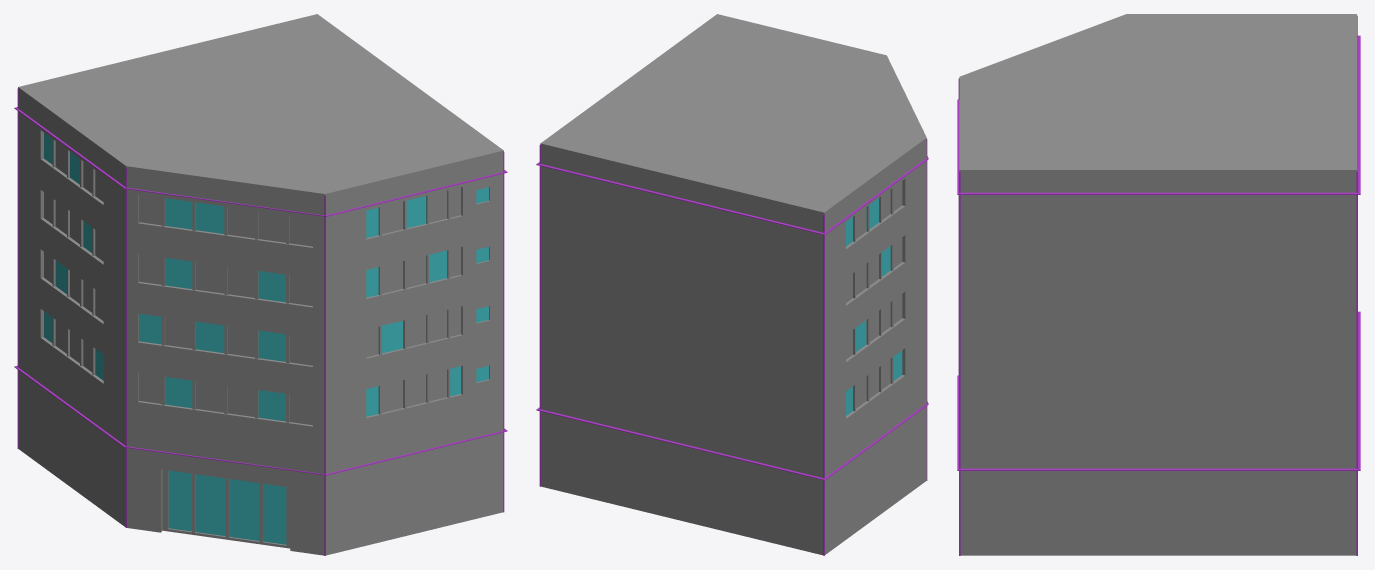
File: BuildingS_03_var3.fbx
3 renders of one model, left to right at view 1: azimuth 30°, elevation 25°; view 2: azimuth 150°, elevation 25°; view 3: azimuth 270°, elevation 25°, orthographic. The views are drawn at different scales.
Parts seen in each view (by area): view 1: BuildingS_03_var3; view 2: BuildingS_03_var3; view 3: BuildingS_03_var3.
Boxes of the visible parts, x1,y1,x2,y2 form: BuildingS_03_var3: (14,14,507,555); BuildingS_03_var3: (536,14,928,555); BuildingS_03_var3: (957,14,1360,555).
Bounding box in the file's own units: 0.391 × 0.4444 × 0.421.
